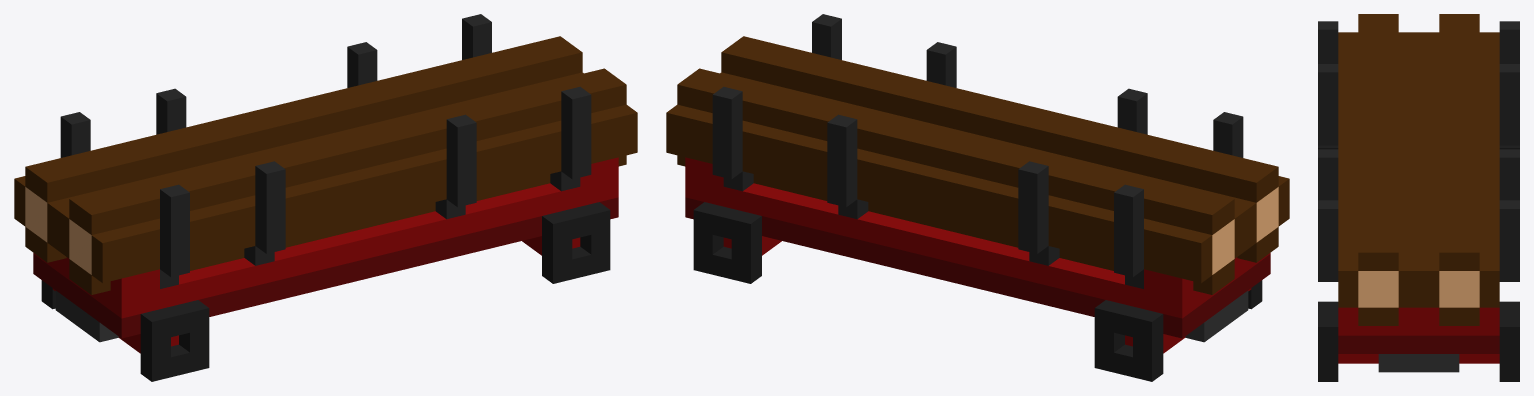
File: prop_train_cart_wood_loader.obj
The picture shows the model from 3 angles, left to right: view 1: azimuth 30°, elevation 25°; view 2: azimuth 150°, elevation 25°; view 3: azimuth 270°, elevation 25°; orthographic projection. The views are drawn at different scales.
Size of the model in its own units: 2.8 by 0.9 by 1.
Materials: 1 (1 with a texture image).
